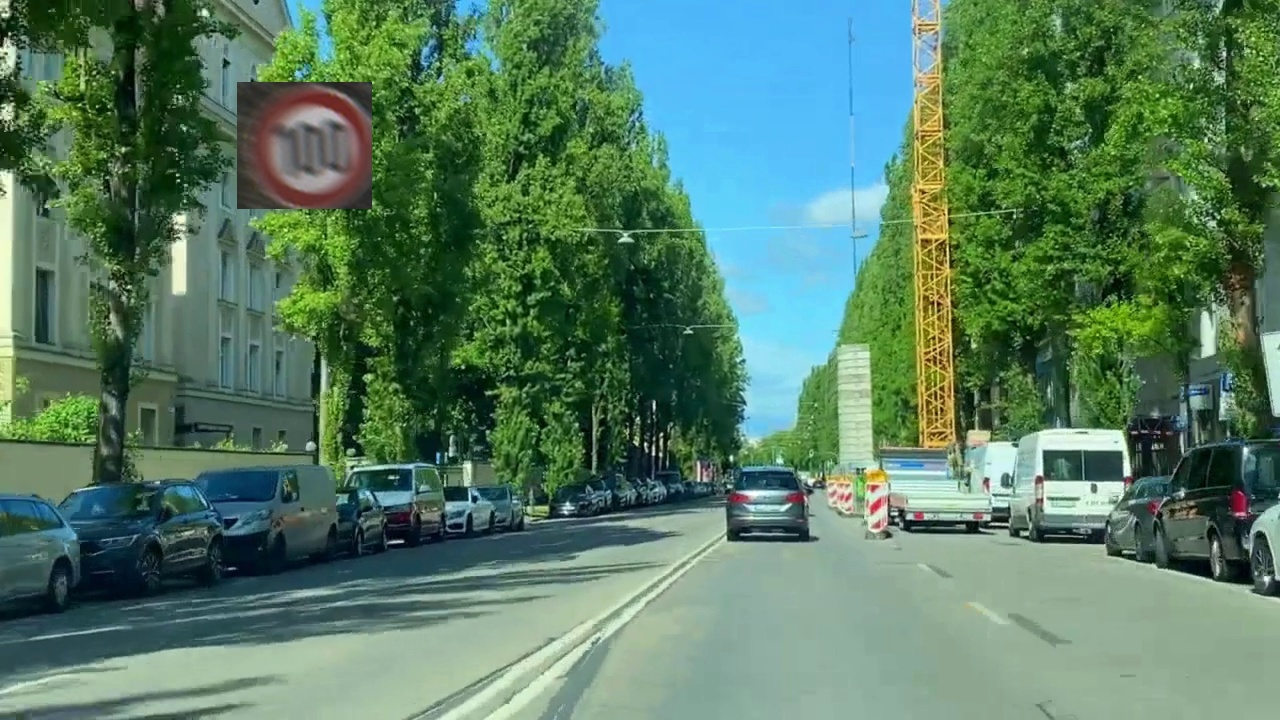Speed 100: (237, 82, 372, 209)
